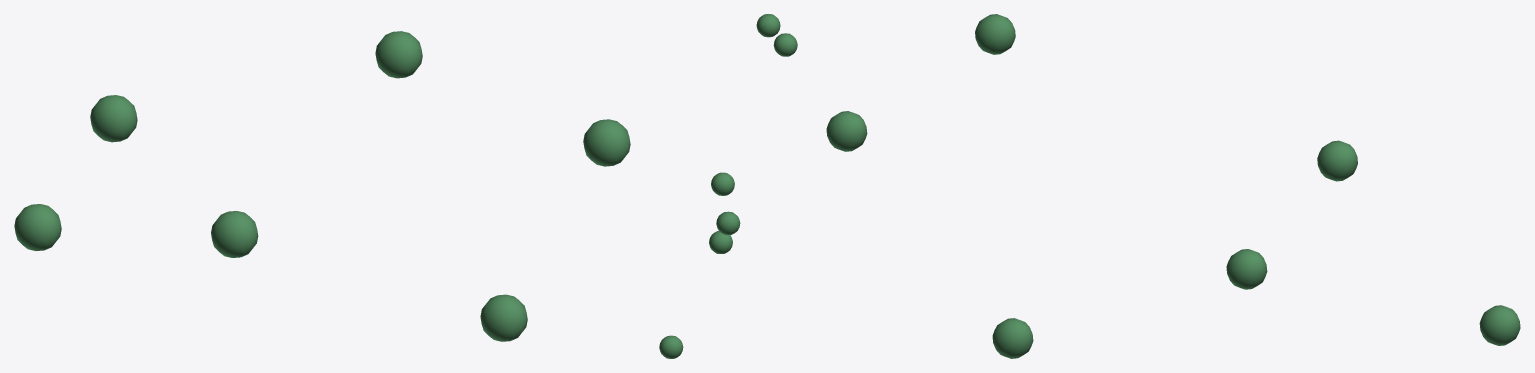
The picture shows the model from 3 angles, left to right: view 1: azimuth 30°, elevation 25°; view 2: azimuth 150°, elevation 25°; view 3: azimuth 270°, elevation 25°; orthographic projection. The views are drawn at different scales.
Parts seen in each view (by area): view 1: 右侧腋淋巴结前群; view 2: 右侧腋淋巴结前群; view 3: 右侧腋淋巴结前群.
Part boxes in pixels (x1,y1,x2,y2): 右侧腋淋巴结前群: (14, 31, 630, 341); 右侧腋淋巴结前群: (659, 14, 797, 358); 右侧腋淋巴结前群: (826, 14, 1520, 358).
Size of the model in its own units: 0.0228 by 0.0365 by 0.0646.
